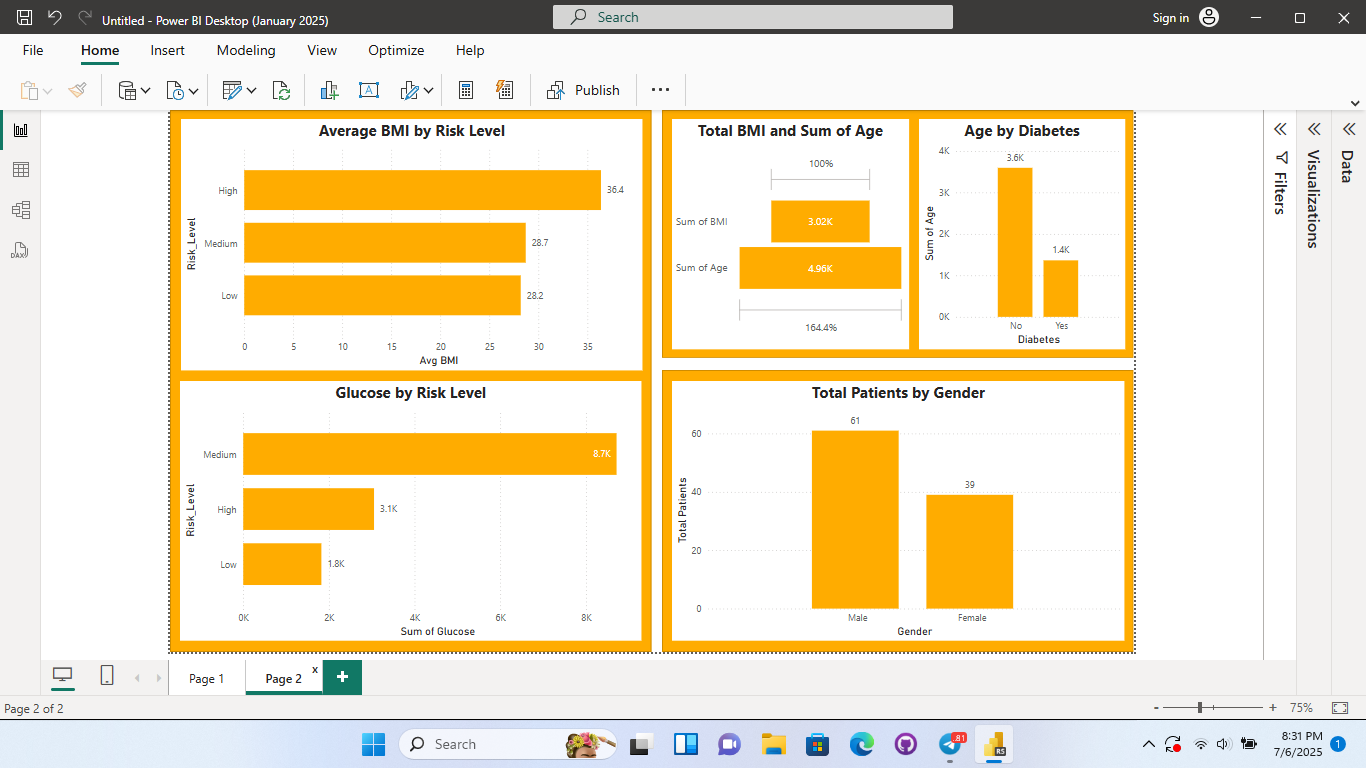

The page's visual inventory and layout, read from the dashboard file:
{"tool":"powerbi","page":{"name":"Page 2","canvas":[1280,720],"ordinal":1},"visuals":[{"type":"shape","box":[0,0,639.5,720],"z":0},{"type":"barChart","title":"Average BMI by Risk Level","fields":{"Y":["Sheet1.Avg BMI"],"Category":["Sheet1.Risk_Level"]},"box":[14.6,11.7,613.2,333.7],"z":1000},{"type":"barChart","title":"Glucose by Risk Level","fields":{"Category":["Sheet1.Risk_Level"],"Y":["Sheet1.Glucose"]},"box":[13.2,360,613.2,345.4],"z":2000},{"type":"shape","box":[654.1,0,626.3,329.3],"z":2001},{"type":"shape","box":[654.1,345.4,626.3,374.6],"z":2002},{"type":"funnel","title":"Total BMI and Sum of Age","fields":{"Y":["Sheet1.BMI","Sheet1.Age"]},"box":[667.3,11.7,314.6,305.9],"z":2003},{"type":"clusteredColumnChart","title":" Age by Diabetes","fields":{"Category":["Sheet1.Diabetes"],"Y":["Sheet1.Age"]},"box":[995.1,11.7,273.7,305.9],"z":2004},{"type":"clusteredColumnChart","fields":{"Y":["Sheet1.Total Patients"],"Category":["Sheet1.Gender"]},"box":[667.3,360,601.5,345.4],"z":2005}]}

Visuals, with their boxes on the page's 1280x720 design canvas (x1, y1, x2, y2). These are canvas units, not pixel positions in the 1366x768 screenshot, which may show the page scaled, cropped or inside an application window:
shape: (0,0,640,720)
"Average BMI by Risk Level" barChart: (15,12,628,345)
"Glucose by Risk Level" barChart: (13,360,626,705)
shape: (654,0,1280,329)
shape: (654,345,1280,720)
"Total BMI and Sum of Age" funnel: (667,12,982,318)
" Age by Diabetes" clusteredColumnChart: (995,12,1269,318)
clusteredColumnChart - Sheet1.Total Patients x Sheet1.Gender: (667,360,1269,705)
